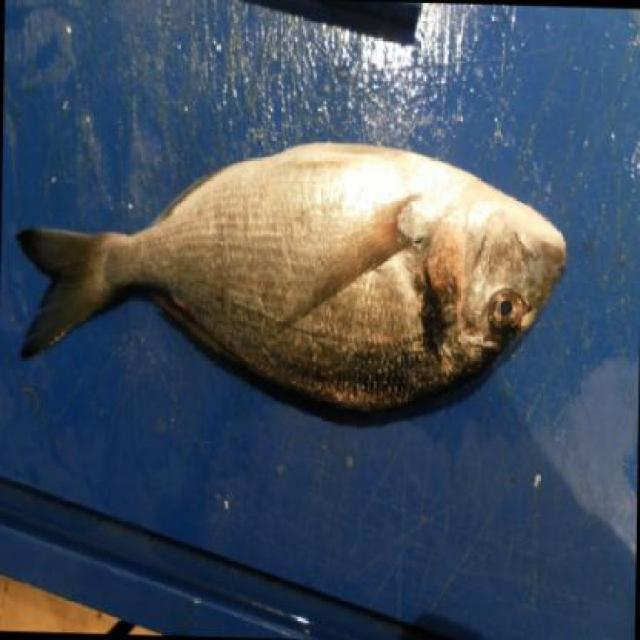Healthy Fish: (15, 136, 584, 430)
